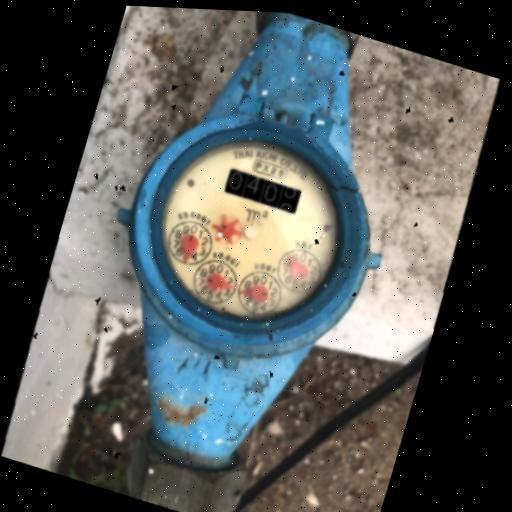0: (223, 169, 247, 197), (260, 180, 282, 208)
4: (242, 174, 265, 202)
5: (276, 184, 301, 214)
border_water_meter_number: (222, 167, 302, 215)
